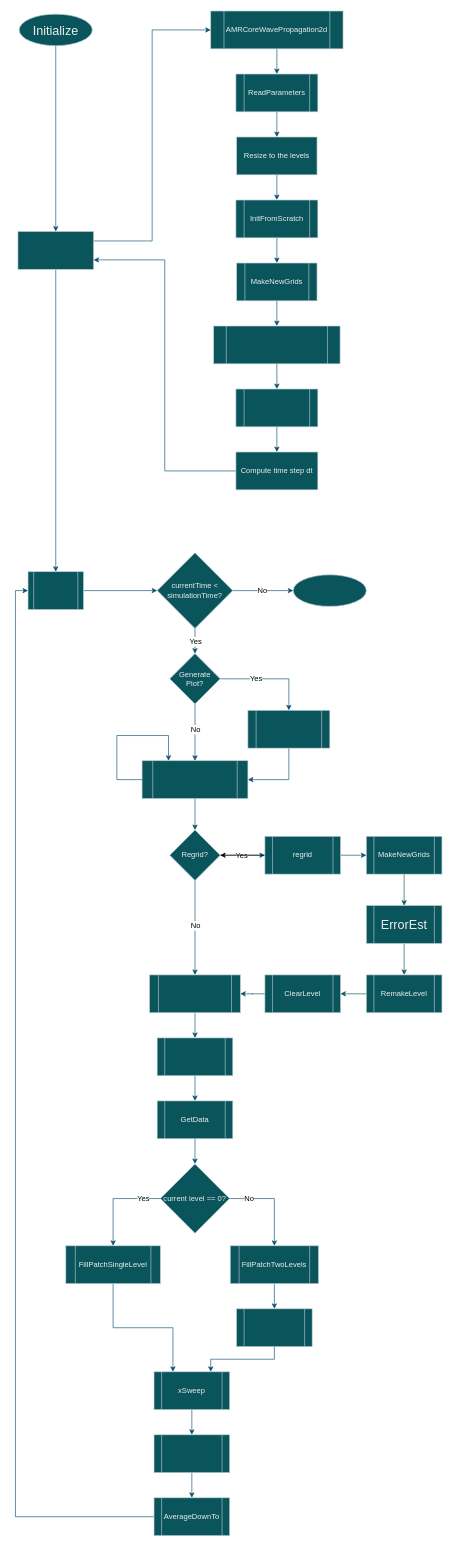
This 453x1547 diagram has some shape labels left out. Each missing label, with the box of its shape:
AdvanceGridAtLevel: (149, 974, 240, 1013)
Evolve: (27, 571, 83, 610)
FillPatch: (157, 1037, 233, 1076)
Finalize: (293, 574, 366, 606)
FixFinePatch: (236, 1308, 312, 1347)
InitData: (235, 388, 318, 427)
MakeNewLevelFromScratch: (213, 325, 340, 364)
Setup of simulation: (17, 231, 94, 269)
timeStepWithSubcycling: (141, 760, 248, 799)
WritePlotFile: (247, 710, 330, 748)
ySweep: (153, 1434, 230, 1473)
